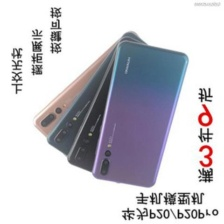phone: (63, 34, 183, 187), (43, 31, 170, 166), (31, 30, 160, 152), (91, 39, 189, 190)
